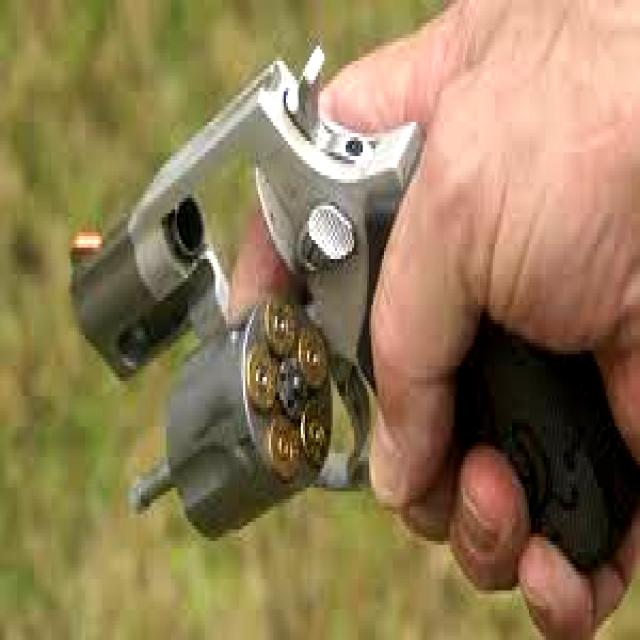revolver: (46, 3, 640, 640)
